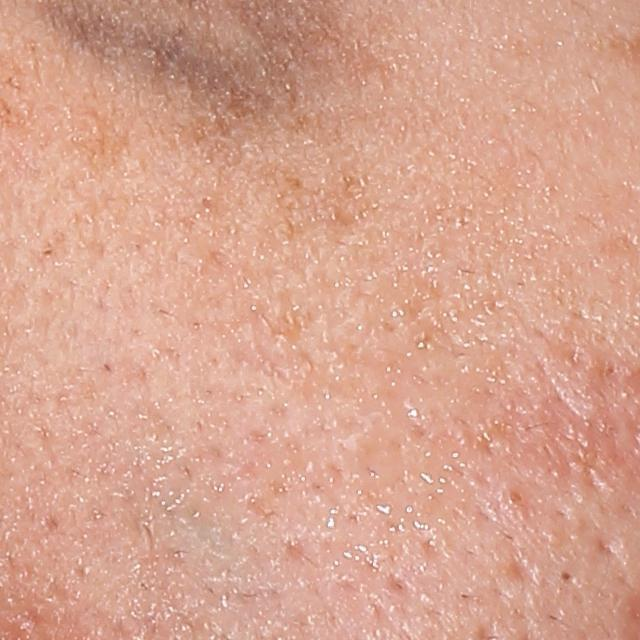atrophic_scar: (504, 551, 551, 598)
comedo: (503, 485, 529, 507)
melasma: (253, 161, 396, 252), (258, 281, 305, 349)
